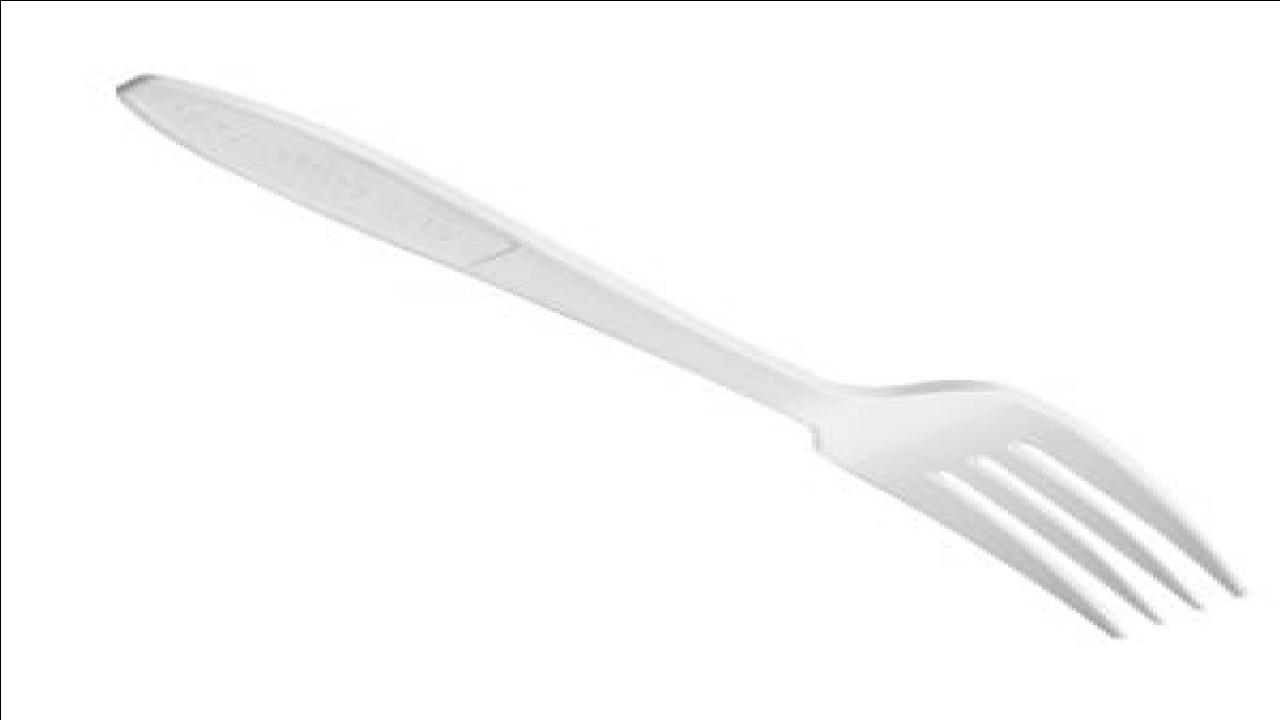fork: (115, 72, 1250, 643)
